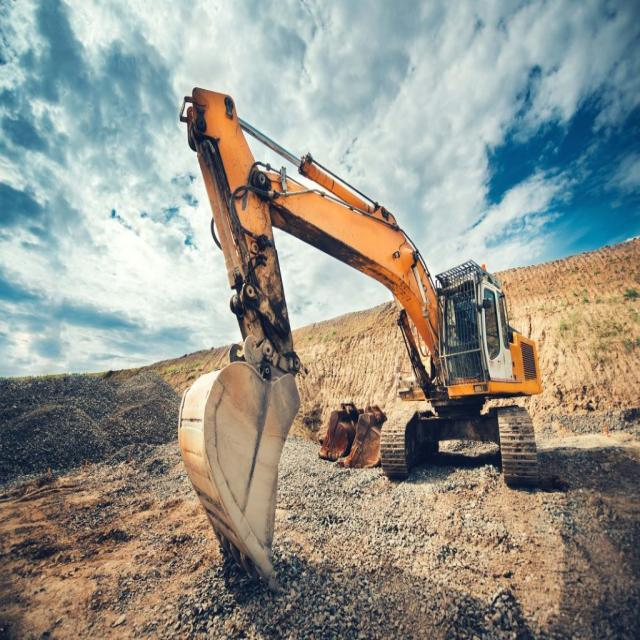excavator: (176, 86, 542, 595)
